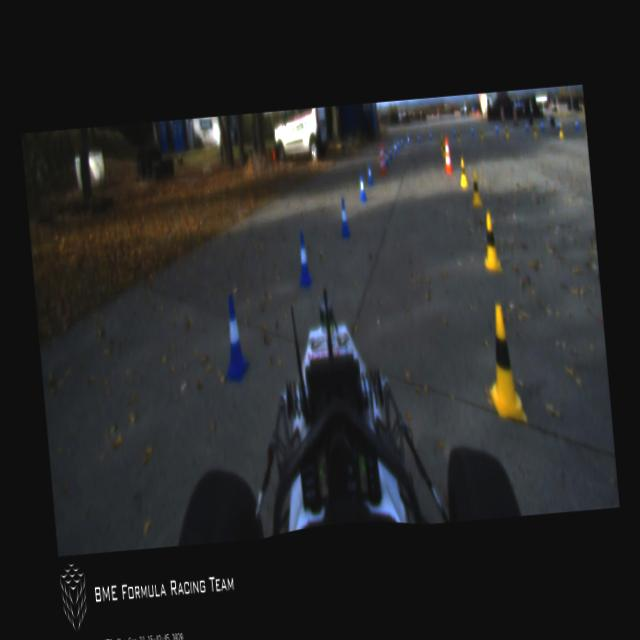blue_cone: (218, 292, 250, 384), (294, 232, 312, 288), (338, 197, 350, 239), (357, 173, 367, 202), (366, 162, 373, 185), (392, 140, 398, 156), (384, 150, 389, 168), (388, 144, 393, 160), (574, 118, 579, 131), (396, 137, 400, 150), (540, 119, 544, 132), (524, 120, 528, 132), (452, 126, 456, 136), (401, 136, 404, 148), (406, 134, 409, 146), (417, 131, 420, 143), (471, 124, 474, 136), (495, 122, 498, 134), (429, 130, 432, 140), (556, 120, 559, 130)
large_orange_cone: (442, 135, 453, 174), (376, 142, 386, 174)
yellow_cone: (481, 300, 528, 427), (478, 209, 502, 275), (468, 170, 482, 208), (458, 156, 468, 188), (558, 122, 563, 138), (504, 125, 510, 138), (478, 127, 484, 140), (532, 124, 538, 136), (441, 141, 445, 158), (439, 136, 443, 152), (457, 130, 460, 142)
